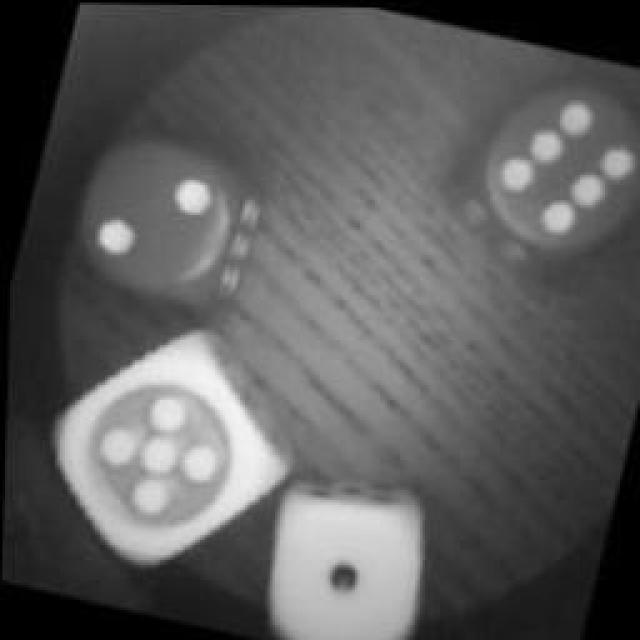dice_1: (245, 455, 455, 640)
dice_2: (46, 102, 276, 330)
dice_5: (22, 312, 312, 586)
dice_6: (435, 49, 640, 286)
